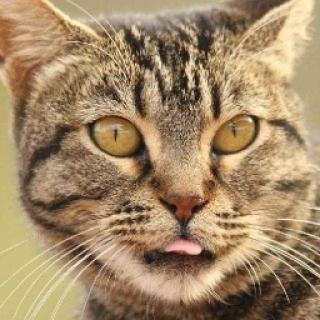cat: (18, 12, 304, 316)
nose: (148, 163, 222, 229)
